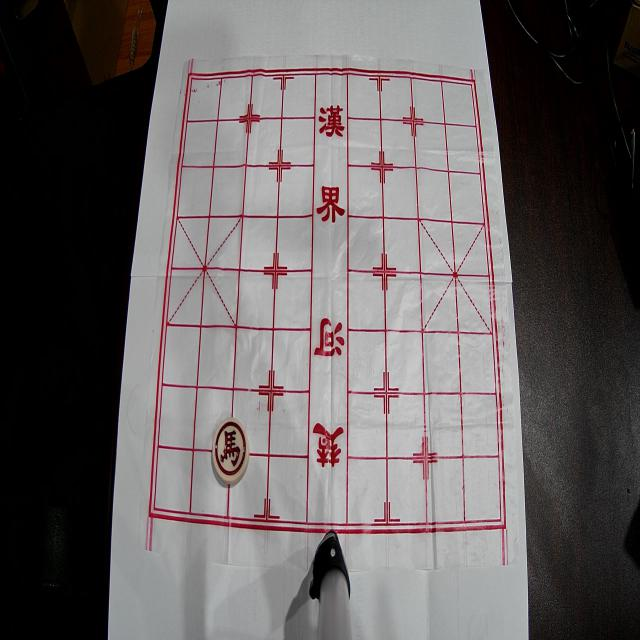red-horse: (212, 418, 250, 484)
